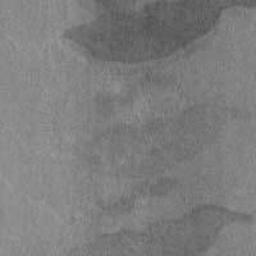Oil spot: (61, 0, 256, 219), (64, 202, 256, 256)
